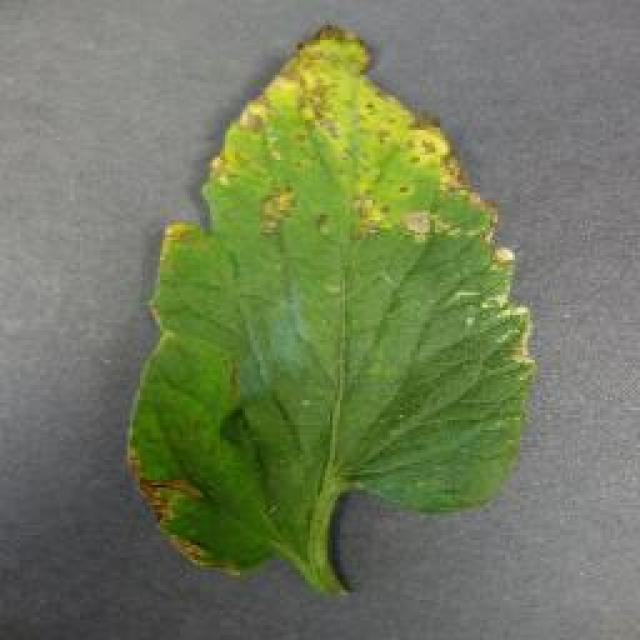Tom_Bacterial_spot: (205, 31, 510, 268)
